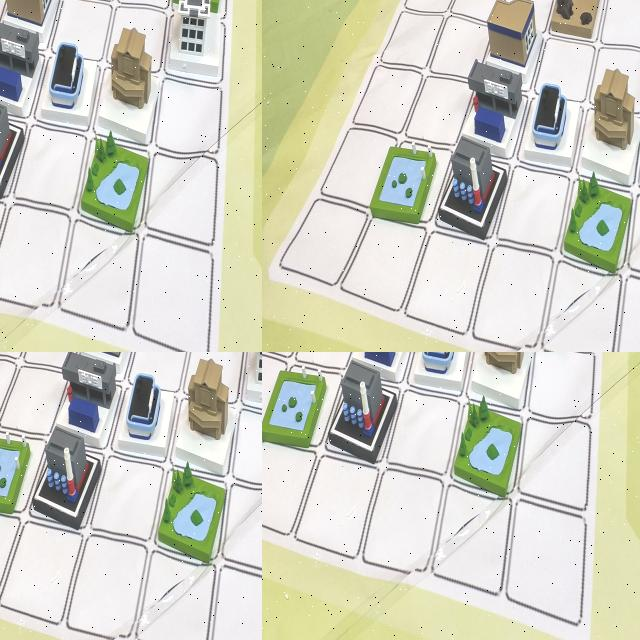bus_stop: (50, 352, 118, 446), (30, 26, 90, 116), (346, 352, 414, 400), (437, 296, 495, 352)
factory: (26, 421, 106, 549), (322, 355, 402, 483), (91, 188, 162, 304), (281, 292, 328, 352)
fish_pool: (262, 352, 332, 465), (156, 36, 216, 121), (0, 416, 38, 531)
forest: (13, 199, 82, 297), (540, 352, 609, 391)
gogo_shop: (109, 358, 181, 462), (21, 114, 86, 200), (405, 352, 476, 403)
research_build: (94, 18, 150, 113), (534, 352, 605, 409)
restaurant: (96, 90, 152, 182), (71, 352, 134, 404), (367, 352, 430, 404)
silicate_rock: (48, 249, 116, 352), (141, 352, 203, 398), (437, 352, 499, 398)
volunteer_center: (173, 352, 239, 471), (469, 352, 535, 416), (0, 178, 32, 279)
wet_land: (154, 449, 227, 575), (450, 383, 522, 509), (314, 206, 354, 279), (0, 111, 30, 193)
